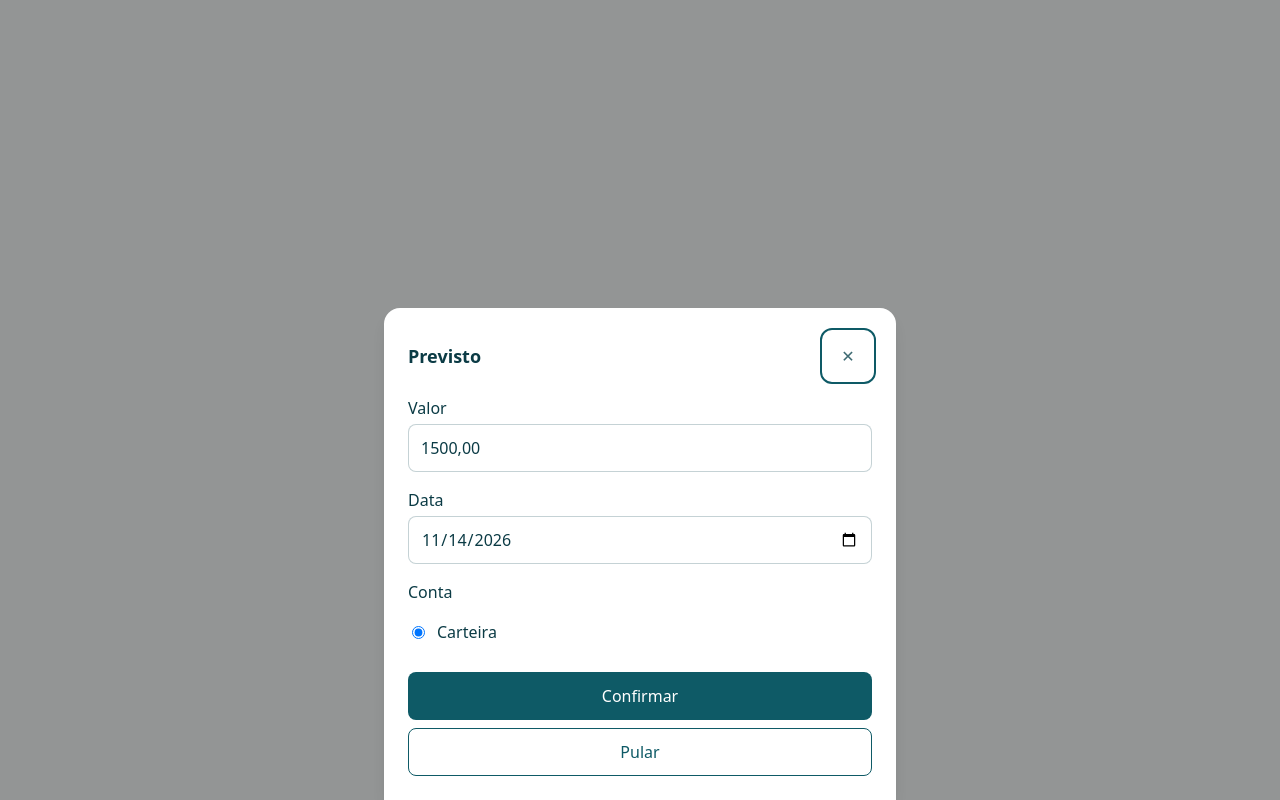
PlannedSheet › closes on a stale snapshot (confirm, Confirmar 409) and says it changed once the sheet is gone
Click the button "Confirmar": click(640, 696) [408,672,872,720]
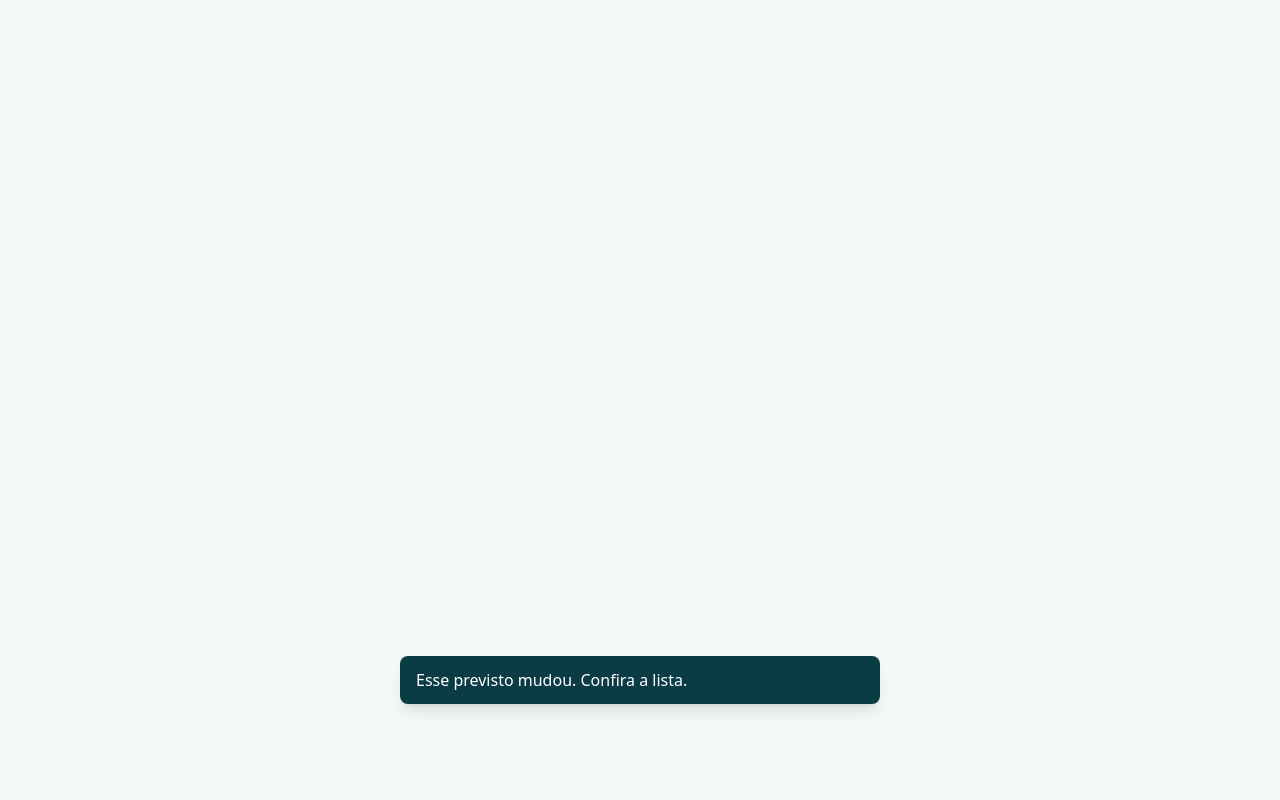
Result: the text "Esse previsto mudou. Confira a lista." is shown at [416,668,687,692]
